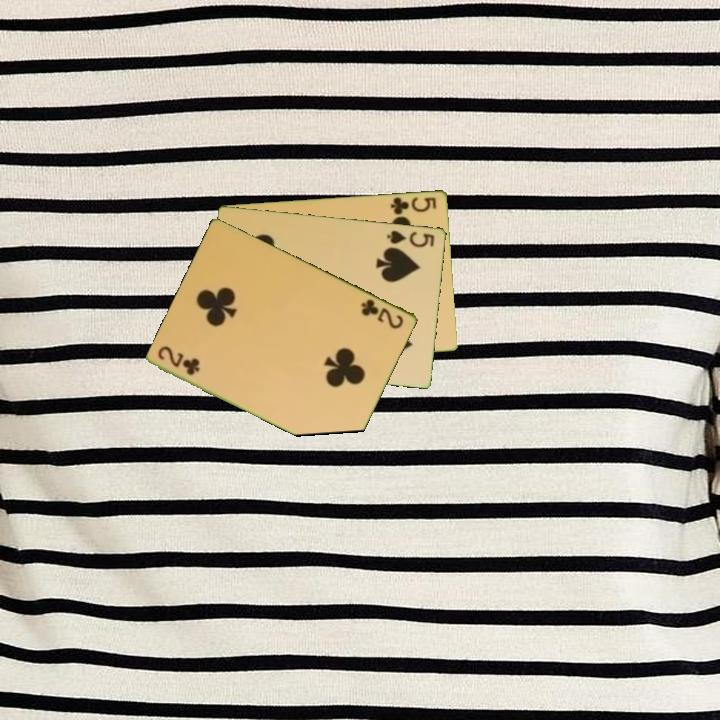2c: (358, 295, 407, 332), (154, 342, 203, 378)
5c: (387, 193, 439, 217)
5s: (383, 226, 437, 250)
